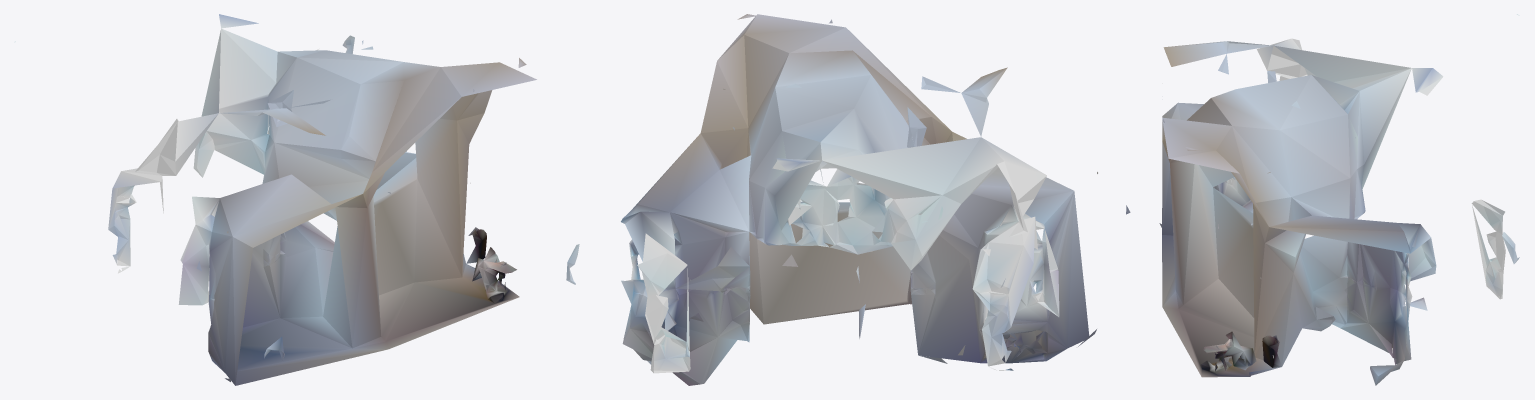
3 views of the same model, side by side, from view 1: azimuth 30°, elevation 25°; view 2: azimuth 150°, elevation 25°; view 3: azimuth 270°, elevation 25° (orthographic). The views are drawn at different scales.
Bounding box in the file's own units: 10.05 × 7.1 × 9.61.
